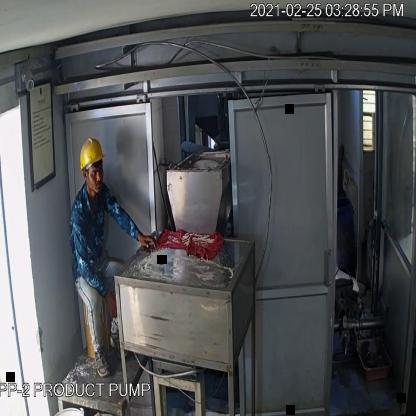helmet: (74, 137, 112, 183)
